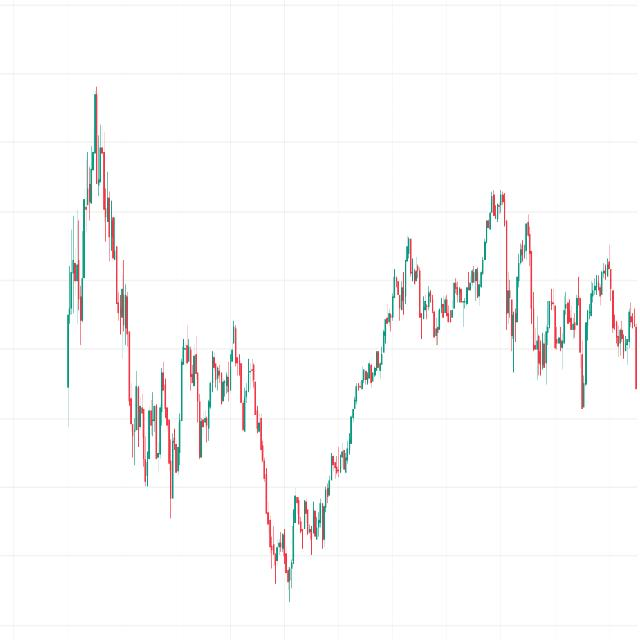Ascending-Triangle: (150, 332, 311, 558)
Descending-Triangle: (496, 152, 621, 371)
Double-Top: (484, 179, 512, 252)
Rising-Wedge: (251, 421, 356, 640)
Rounding-Bottom: (408, 215, 486, 354)
